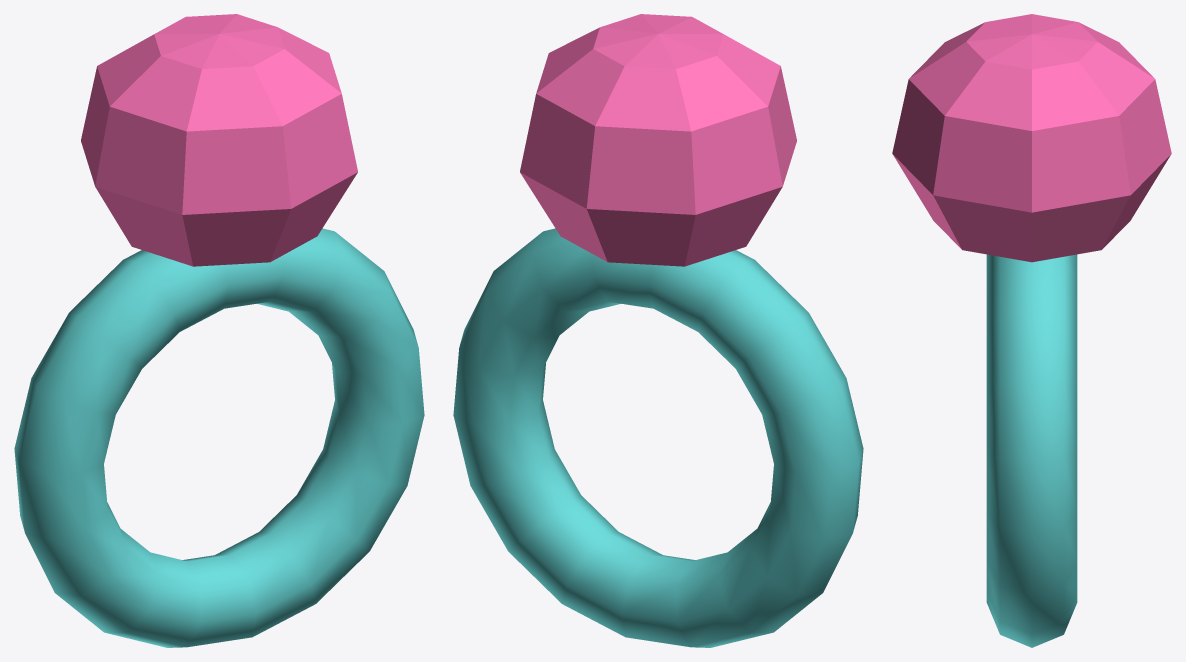
The model's file is CandyRing.fbx.
3 renders of one model, left to right at view 1: azimuth 30°, elevation 25°; view 2: azimuth 150°, elevation 25°; view 3: azimuth 270°, elevation 25°, orthographic. The views are drawn at different scales.
Parts seen in each view (by area): view 1: CandyRing; view 2: CandyRing; view 3: CandyRing.
Part boxes in pixels (x1,y1,x2,y2): CandyRing: (14,14,424,647); CandyRing: (453,14,863,647); CandyRing: (892,14,1171,647).
Bounding box in the file's own units: 0.0548 × 0.0794 × 0.034.
